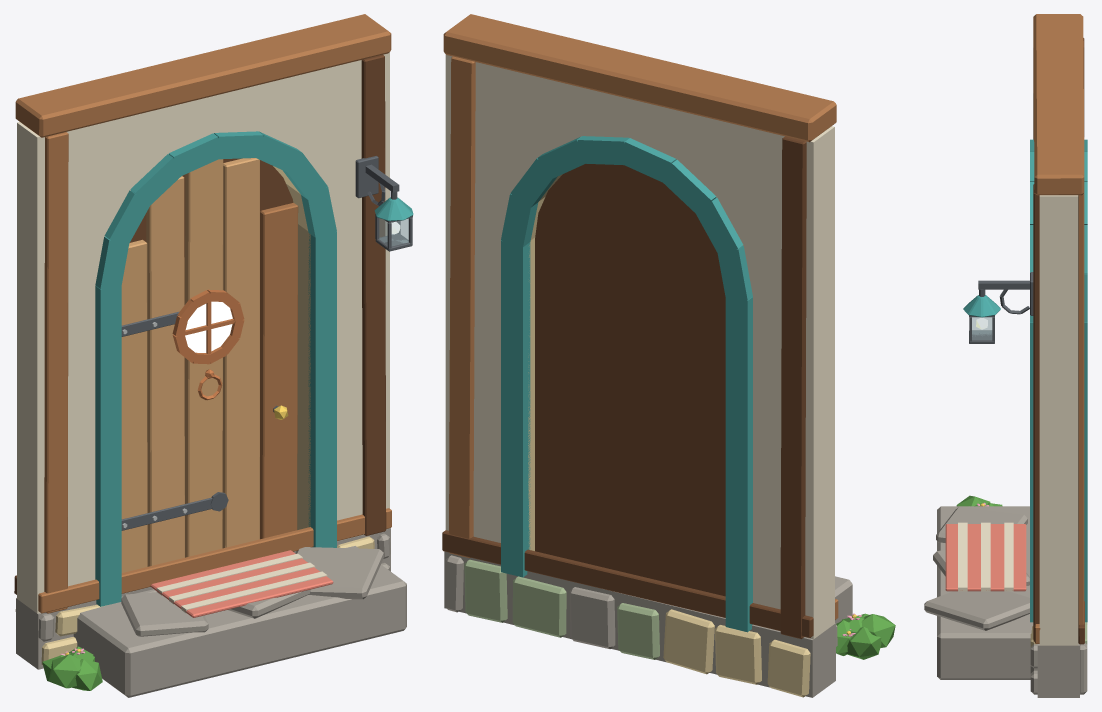
File: wall_arch_door.glb
3 views of the same model, side by side, from view 1: azimuth 30°, elevation 25°; view 2: azimuth 150°, elevation 25°; view 3: azimuth 270°, elevation 25° (orthographic). The views are drawn at different scales.
Visible parts, largest first — view 1: Wall Arch Door; view 2: Wall Arch Door; view 3: Wall Arch Door.
Boxes of the visible parts, x1=… form: Wall Arch Door: x1=14, y1=14, x2=413, y2=697; Wall Arch Door: x1=442, y1=14, x2=895, y2=697; Wall Arch Door: x1=924, y1=14, x2=1087, y2=697.
Bounding box in the file's own units: 2.12 × 3 × 0.8512.
3 materials, 1 textured.
